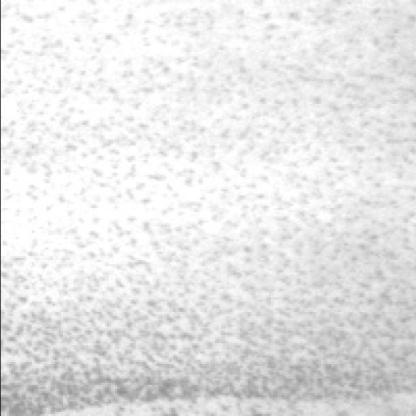pitted_surface: (2, 8, 416, 416)
